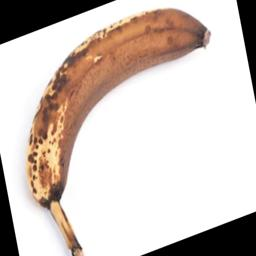Banana Rotten: (20, 11, 228, 254)
